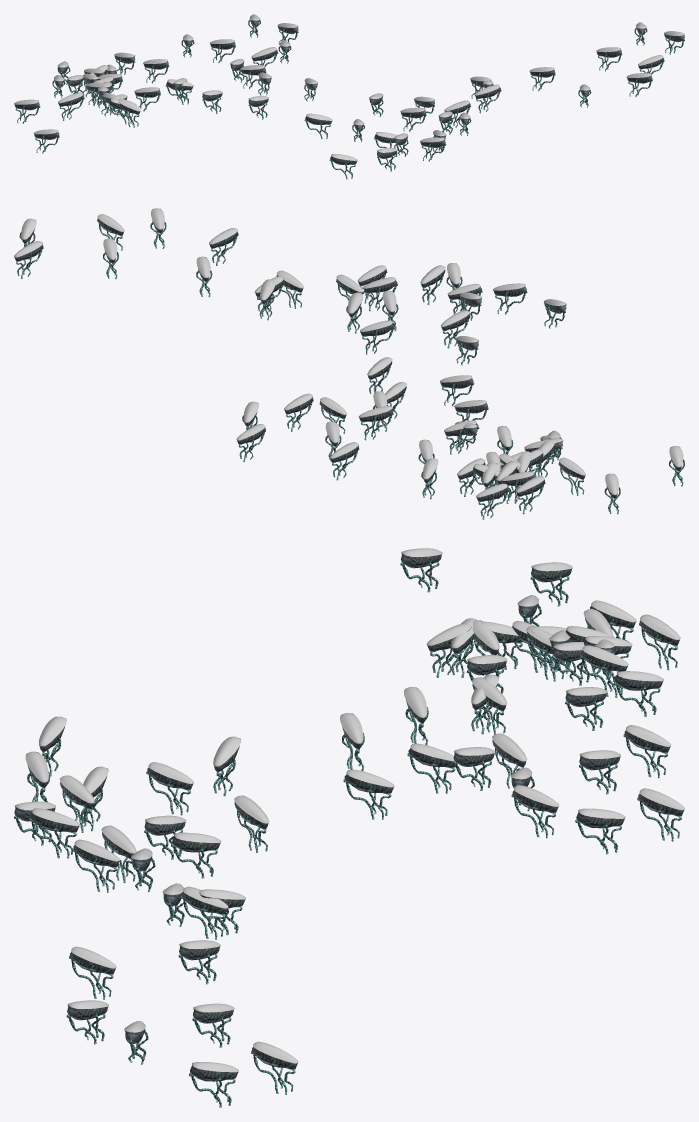
File: Cocoons.fbx
3 renders of one model, top to bottom at view 1: azimuth 30°, elevation 25°; view 2: azimuth 150°, elevation 25°; view 3: azimuth 270°, elevation 25°, orthographic. The views are drawn at different scales.
Bounding box in the file's own units: 12645 × 498 × 6806.
